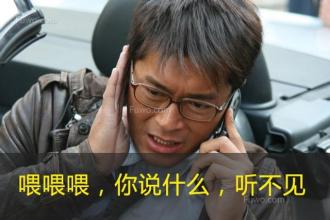phone: (217, 93, 250, 149)
talk: (123, 63, 254, 212)
